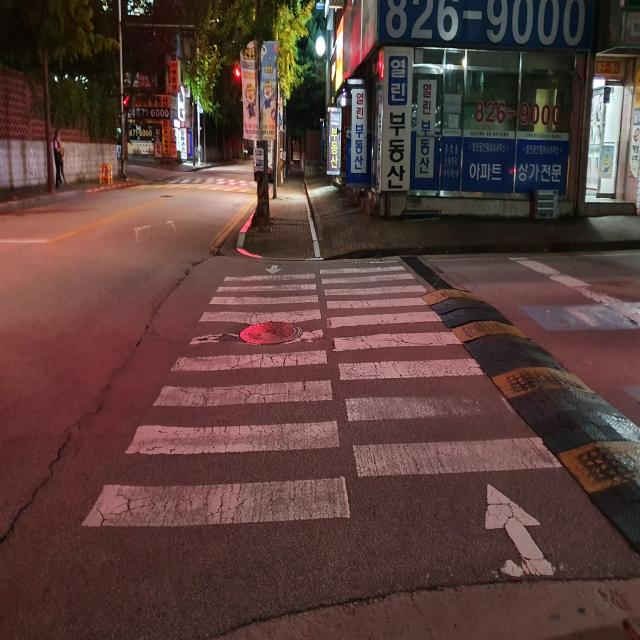횡단보도: (77, 253, 568, 582)
